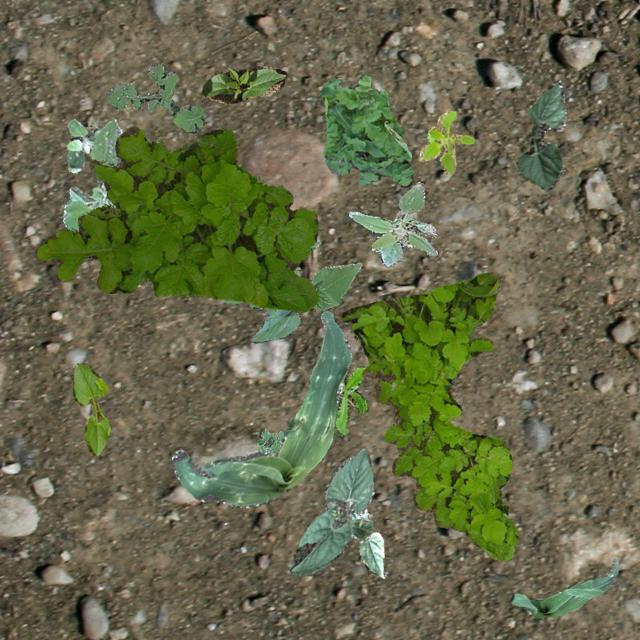crop: (170, 310, 350, 508), (222, 238, 360, 342), (288, 446, 372, 574), (510, 556, 618, 616), (514, 78, 566, 190), (72, 362, 108, 454), (198, 66, 286, 102), (350, 507, 384, 577)
weed: (35, 126, 318, 310), (340, 272, 516, 560), (320, 74, 412, 186), (348, 180, 437, 266), (104, 62, 204, 132), (62, 117, 122, 230), (418, 110, 474, 172), (334, 364, 366, 434), (66, 119, 102, 172), (256, 426, 282, 454), (88, 204, 120, 218)
